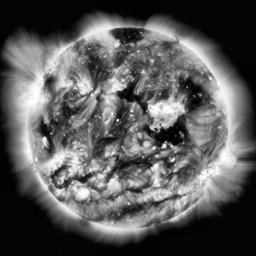solar flares: (38, 151, 82, 167), (150, 100, 182, 121), (53, 76, 75, 91), (78, 81, 94, 97)
sunspots: (147, 126, 187, 145), (181, 79, 206, 108), (114, 80, 142, 105), (114, 27, 142, 45), (88, 56, 104, 80), (39, 122, 53, 147), (116, 158, 150, 166), (64, 106, 77, 114)
